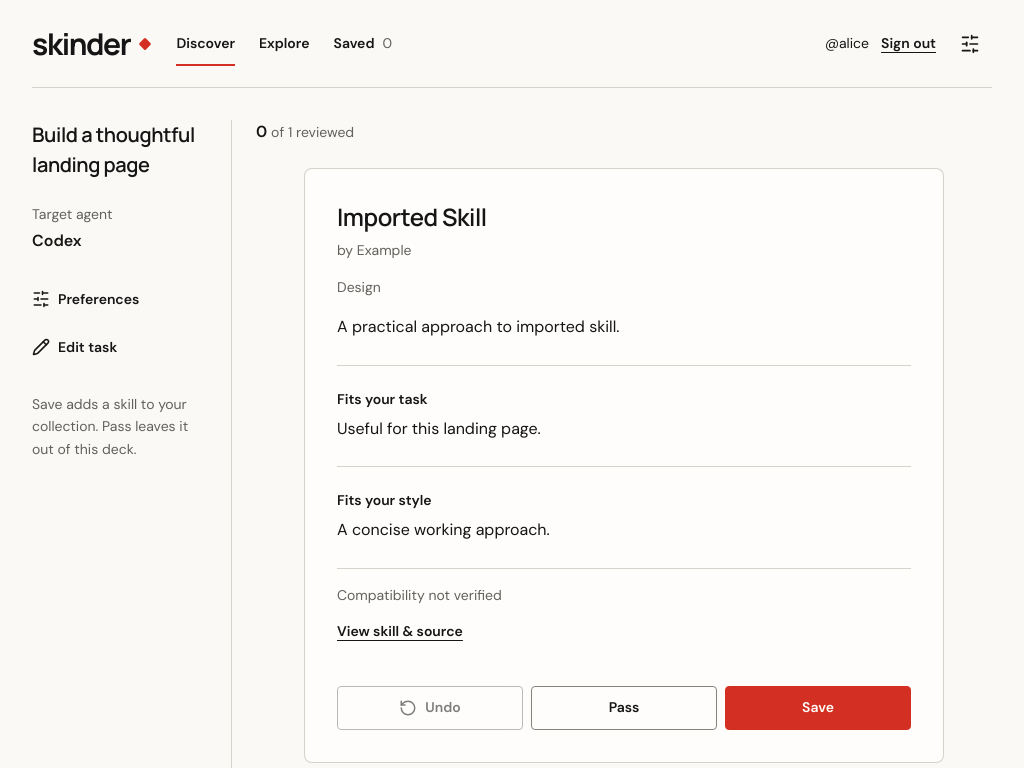
Test: skill discovery › keeps unknown imported metadata explicit and directs setup to the source
Expected: the text "Compatibility not verified" is shown, [337, 586, 502, 604]
What coordinates should you click on to do the following:
click the button "View skill & source"
I would click on:
 (400, 631)
Its box is [337, 610, 911, 654].
(page scrolled)
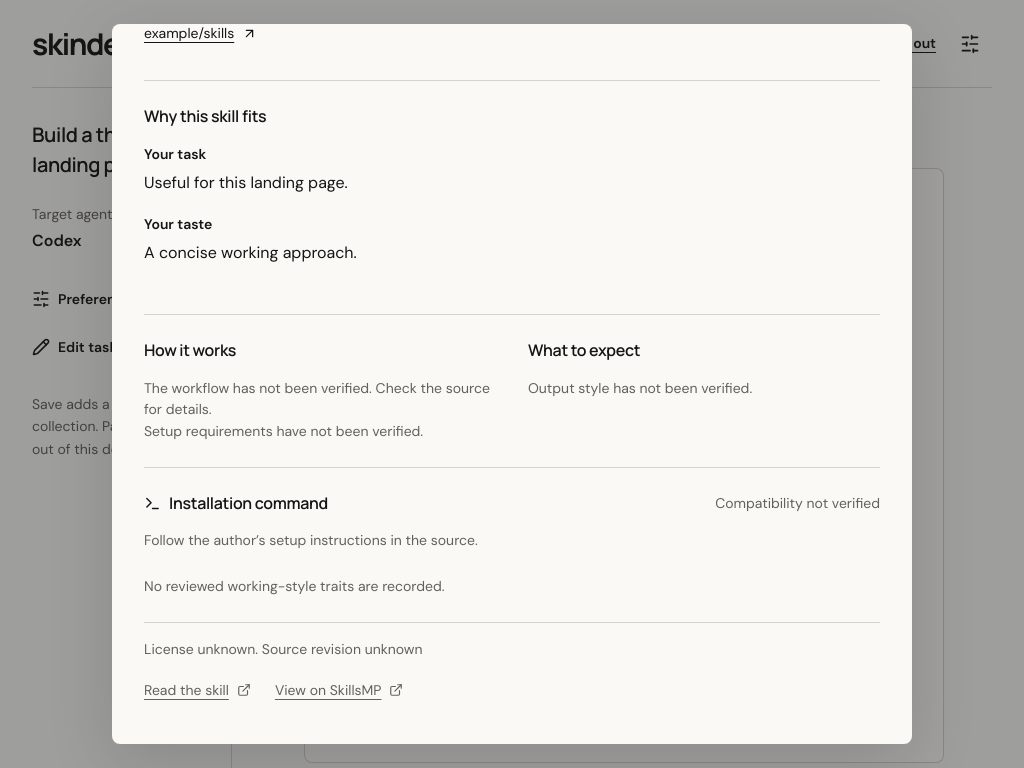
Result: the text "License unknown. Source revision unknown" is shown at [144, 640, 423, 658]
Result: the text "workflow has not been verified" is shown at [144, 379, 490, 418]
Result: the text "Setup requirements have not been verified." is shown at [144, 422, 423, 440]
